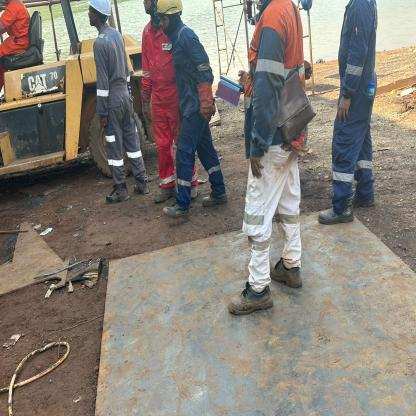bota: (227, 285, 273, 314), (318, 194, 355, 225), (270, 258, 304, 289), (350, 189, 376, 210), (161, 202, 190, 219), (152, 187, 178, 205), (201, 191, 228, 208), (104, 187, 130, 204), (133, 179, 149, 197), (189, 185, 198, 198)
